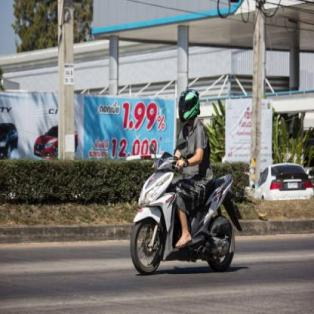Motocicleta: (130, 140, 244, 280)
